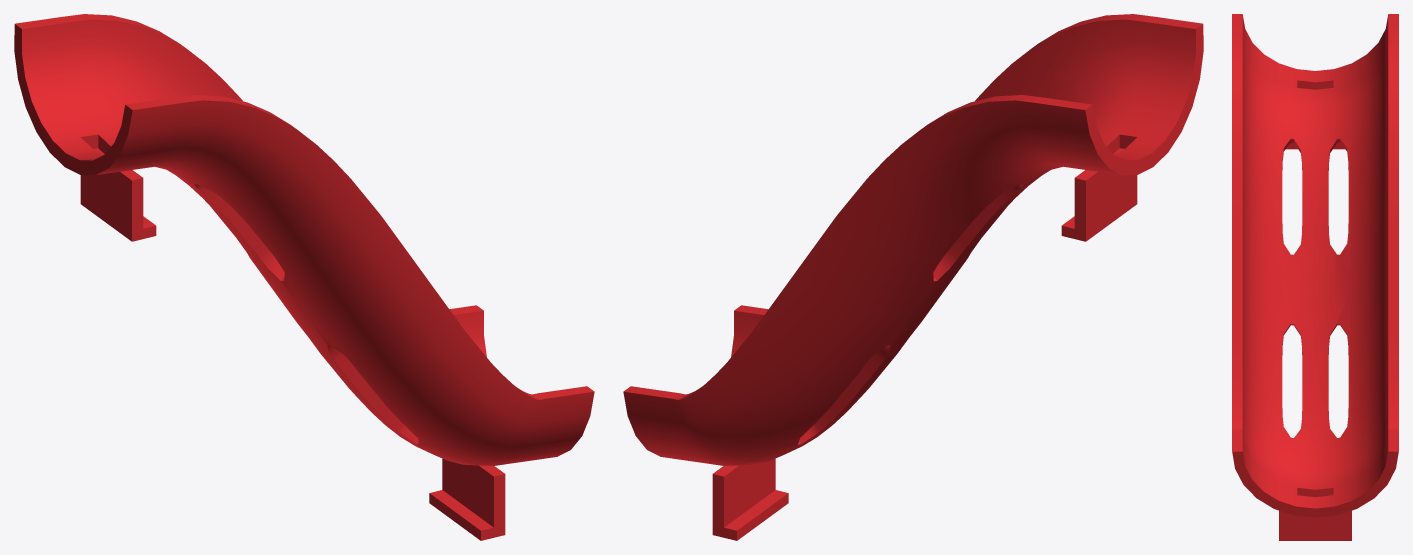
3 views of the same model, side by side, from view 1: azimuth 30°, elevation 25°; view 2: azimuth 150°, elevation 25°; view 3: azimuth 270°, elevation 25° (orthographic). The views are drawn at different scales.
Visible parts, largest first — view 1: T-08; view 2: T-08; view 3: T-08.
Boxes of the visible parts, box(x1,y1,x2,y2) form: T-08: box(14, 14, 594, 540); T-08: box(623, 14, 1203, 540); T-08: box(1232, 14, 1398, 540).
Bounding box in the file's own units: 0.058 × 0.0646 × 0.0252.
